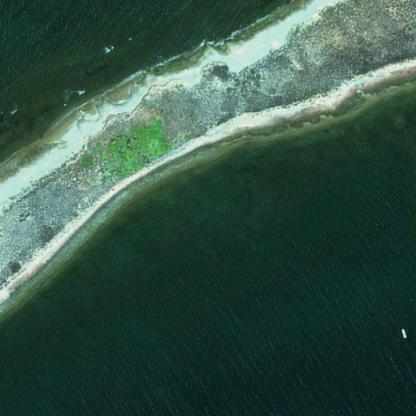ship: (401, 327, 406, 338)
